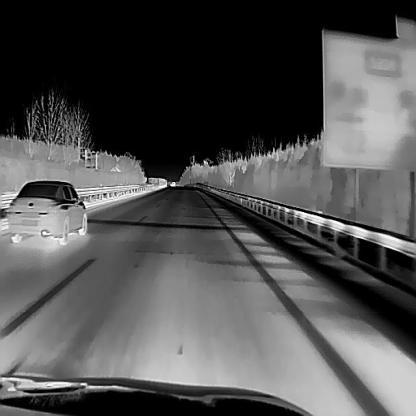car: (5, 178, 87, 244)
